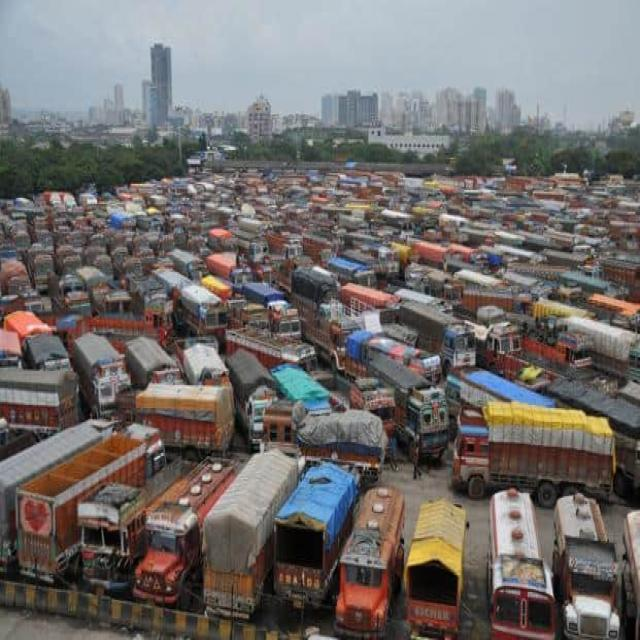truck: (454, 399, 614, 507), (204, 450, 298, 618), (134, 457, 235, 605), (78, 461, 182, 593), (274, 463, 358, 607), (335, 487, 405, 637), (488, 487, 555, 638), (552, 493, 619, 639), (405, 499, 469, 638), (369, 356, 449, 458)
